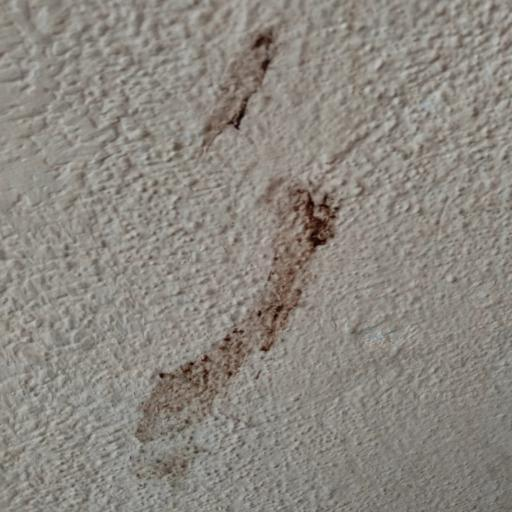stain: (116, 184, 342, 497), (183, 16, 304, 164)
